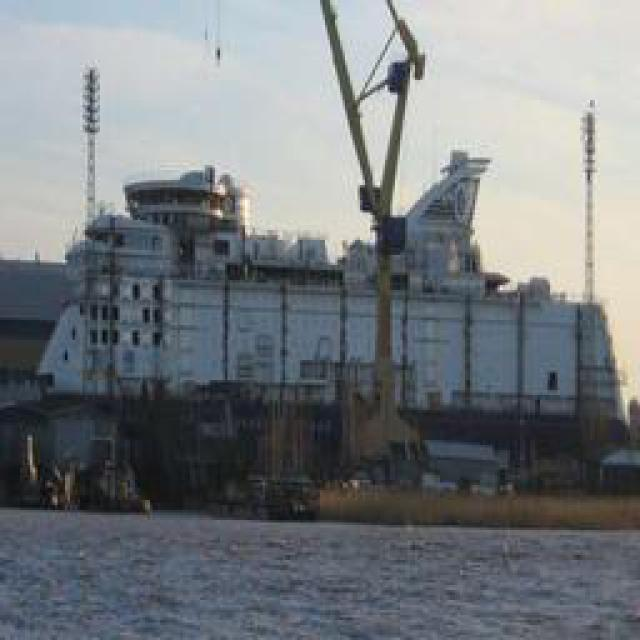Ship: (32, 143, 585, 428)
